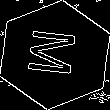M_E: (25, 29, 85, 81)
